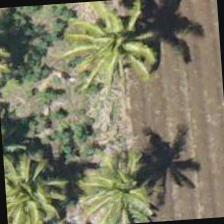Kelapa_Sawit: (62, 0, 159, 95), (71, 140, 168, 223), (2, 142, 79, 223)
